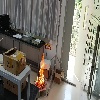fire: (36, 52, 45, 87)
